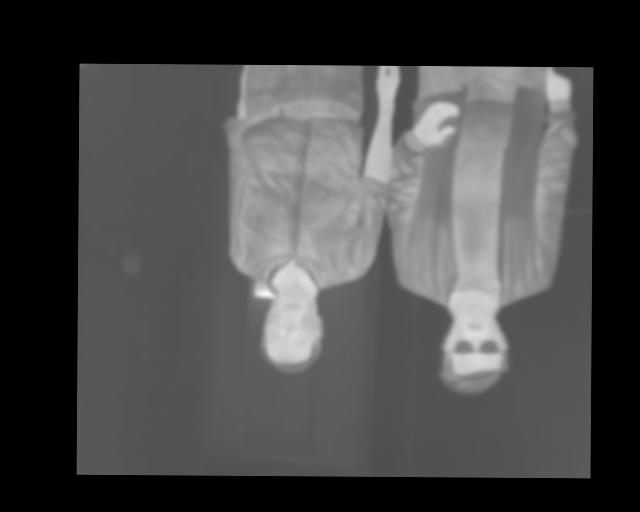face: (439, 303, 510, 396), (260, 283, 326, 375)
